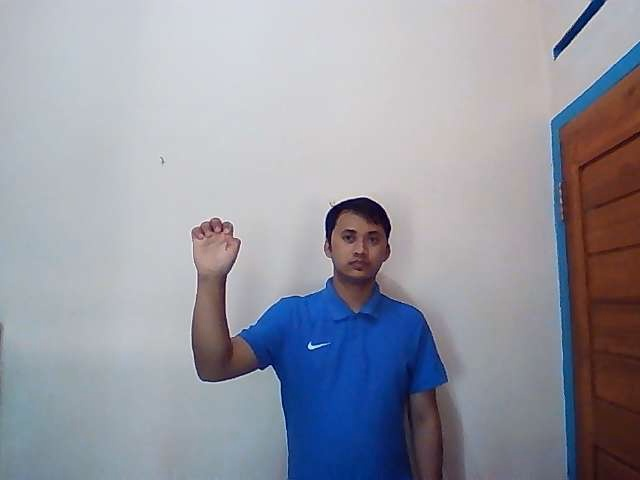E: (191, 217, 241, 278)
